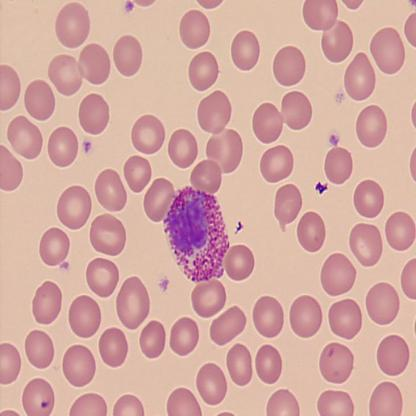Eosinophil: (164, 185, 232, 284)
